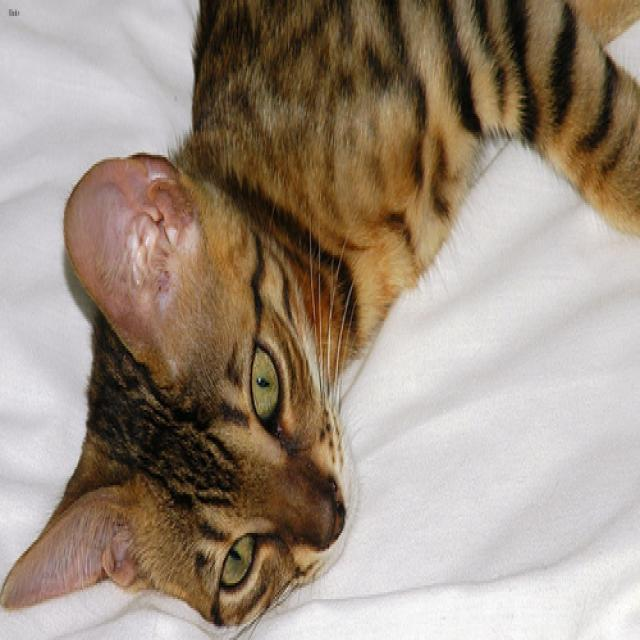Bengal: (0, 150, 358, 637)
